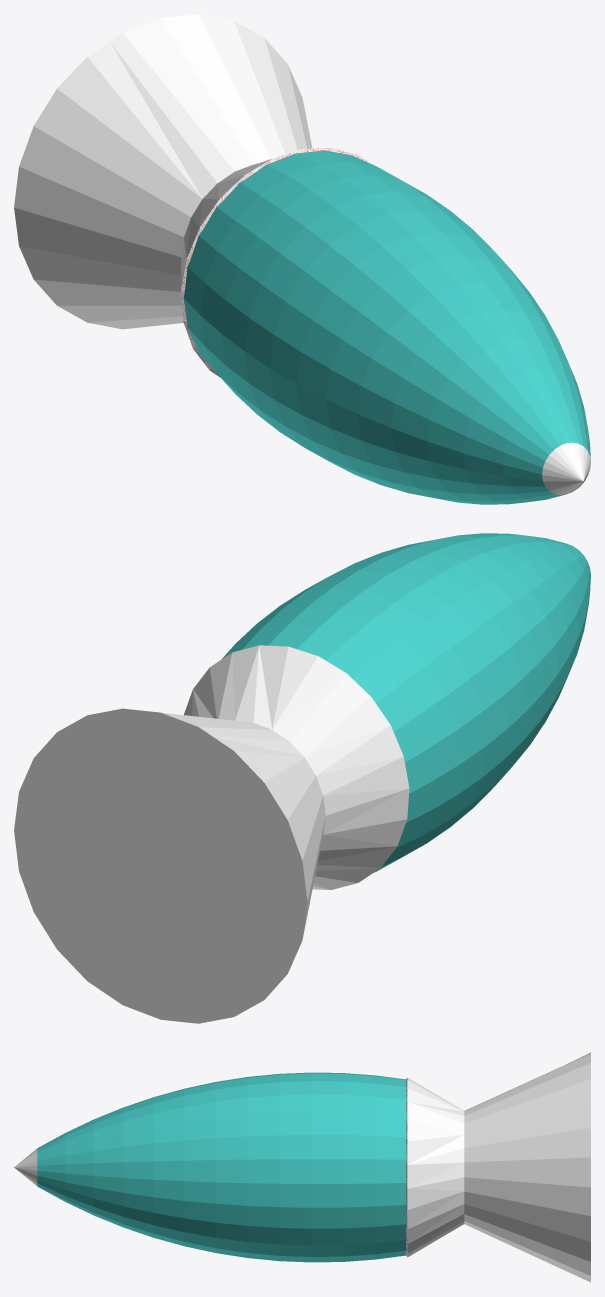
3 renders of one model, top to bottom at view 1: azimuth 30°, elevation 25°; view 2: azimuth 150°, elevation 25°; view 3: azimuth 270°, elevation 25°, orthographic. The views are drawn at different scales.
Visible parts, largest first — view 1: lava lamp; view 2: lava lamp; view 3: lava lamp.
Boxes of the visible parts, x1=… form: lava lamp: x1=14, y1=14, x2=590, y2=504; lava lamp: x1=14, y1=533, x2=590, y2=1023; lava lamp: x1=14, y1=1052, x2=590, y2=1282.
Bounding box in the file's own units: 8.98 × 8.98 × 22.4.
